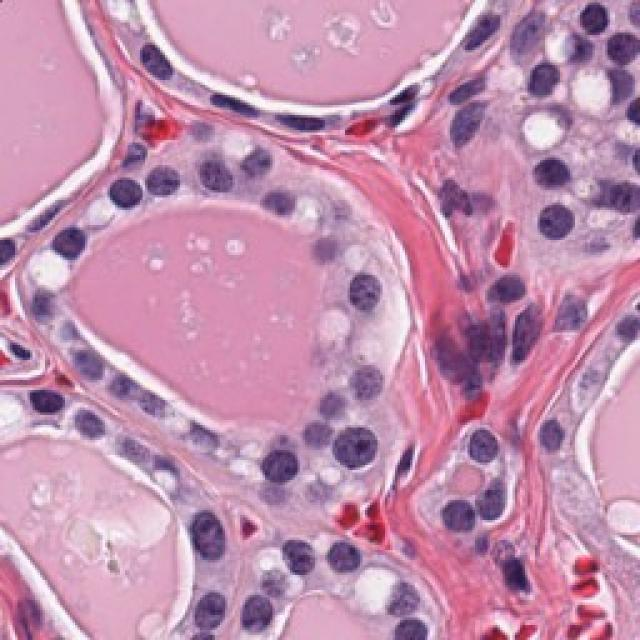normal: (314, 408, 409, 497), (133, 145, 214, 224), (170, 487, 243, 568), (249, 424, 314, 501), (99, 160, 157, 233), (258, 524, 328, 583), (250, 166, 314, 228), (43, 212, 95, 283), (337, 259, 393, 324), (200, 138, 243, 218), (55, 330, 106, 388), (321, 531, 370, 585), (178, 582, 234, 628)
